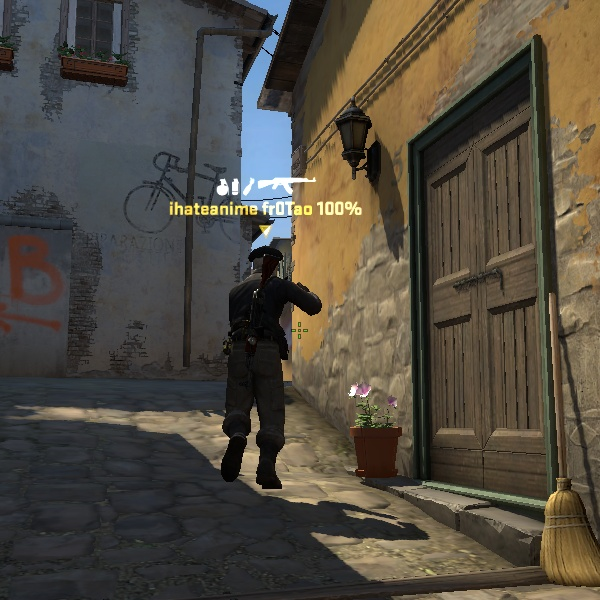ct_head: (241, 235, 295, 286)
t_body: (198, 242, 341, 492)
